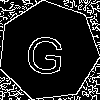G: (23, 26, 67, 76)
